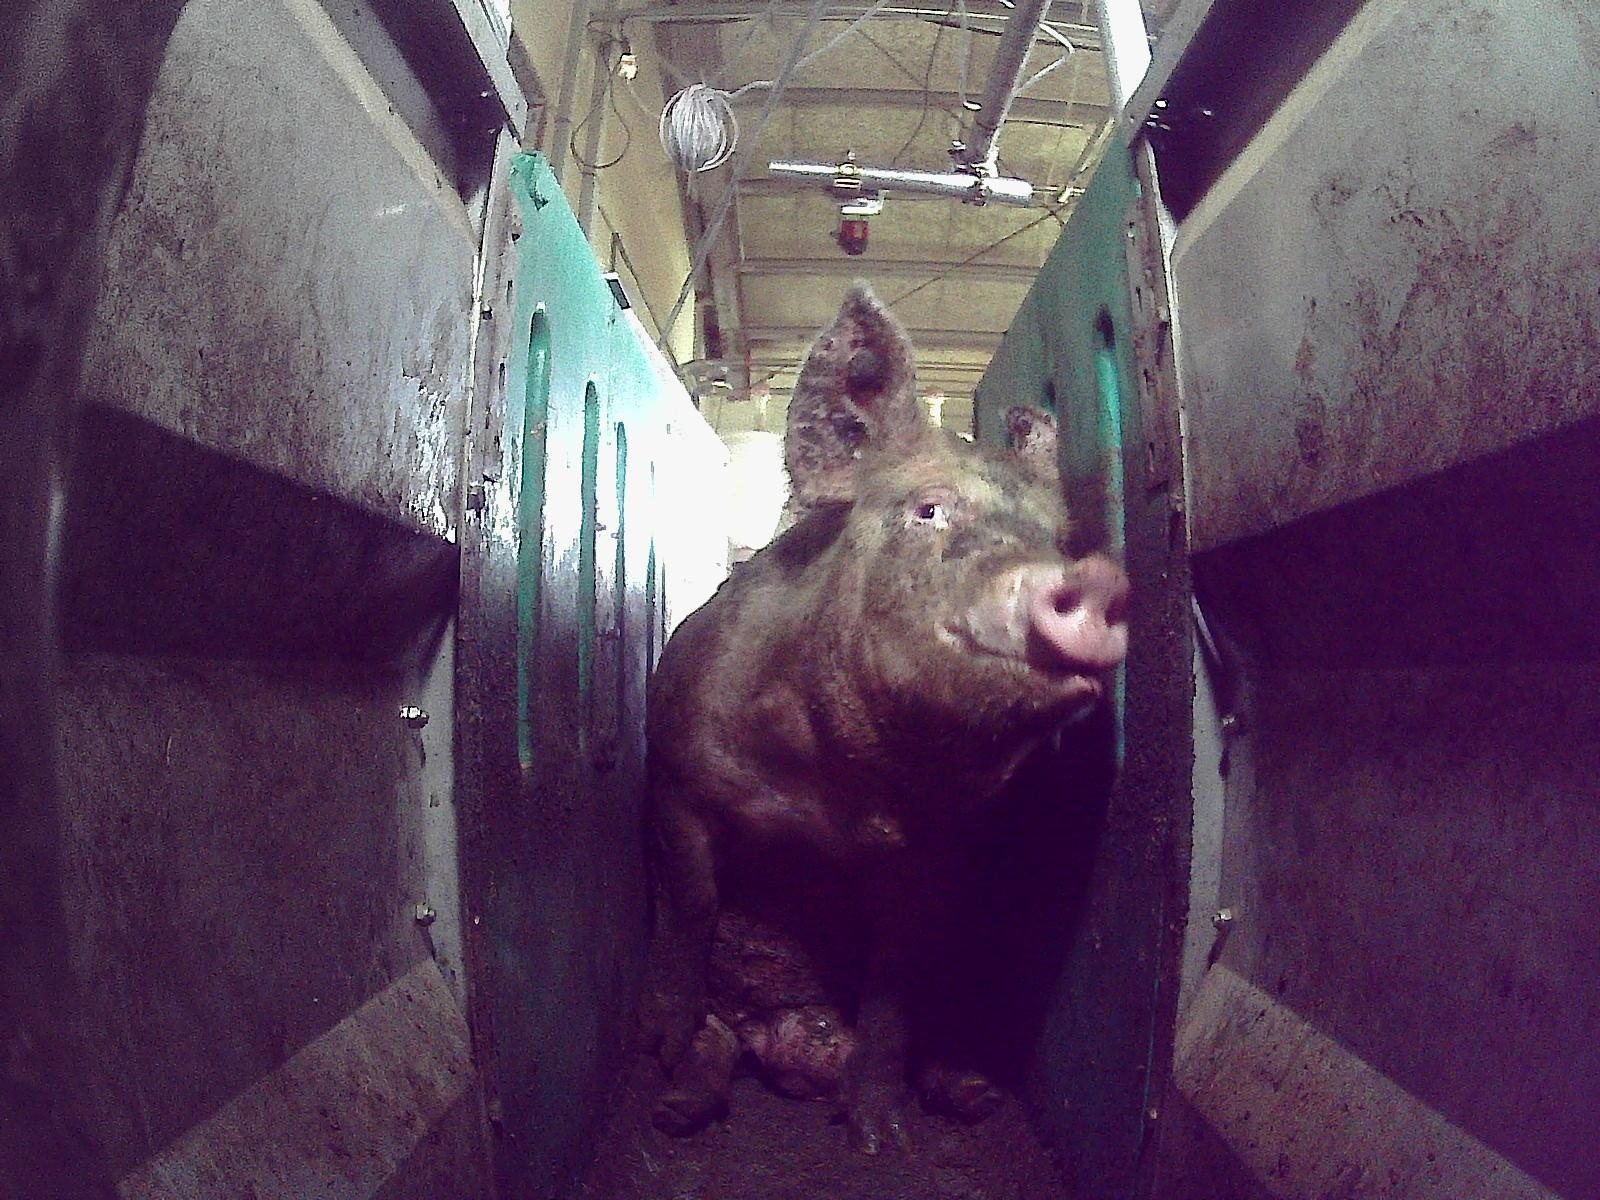Face: (774, 432, 1132, 792)
